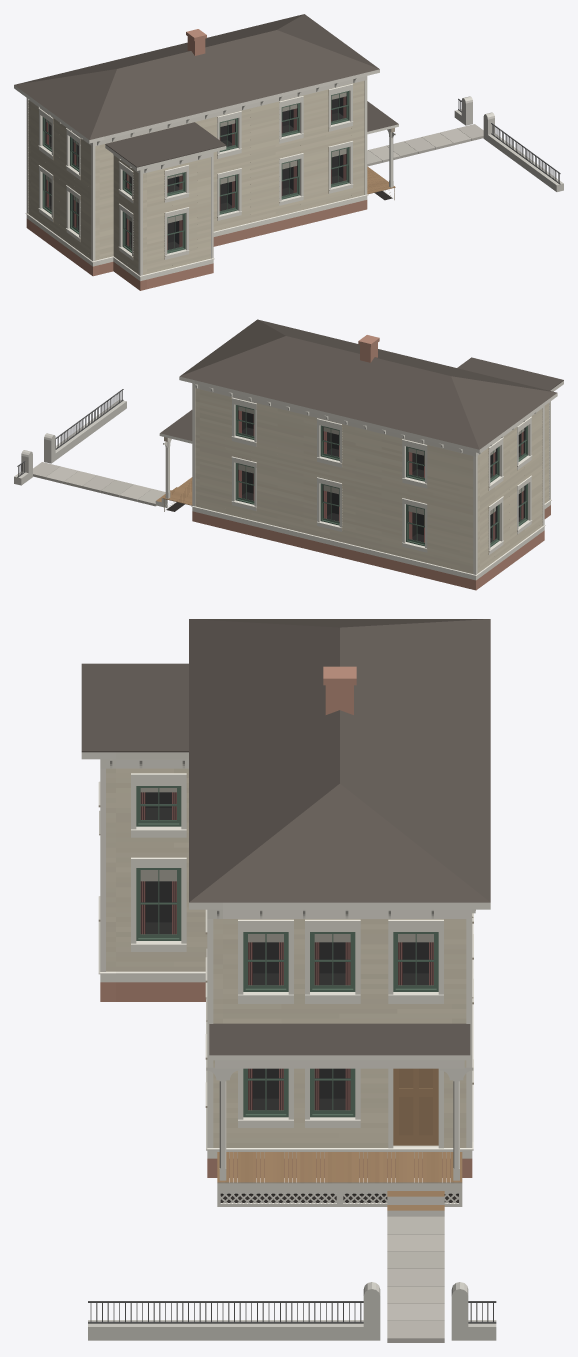
File: house_1630_prairie__as_mapped_1904.glb
The picture shows the model from 3 angles, top to bottom: view 1: azimuth 30°, elevation 25°; view 2: azimuth 150°, elevation 25°; view 3: azimuth 270°, elevation 25°; orthographic projection. The views are drawn at different scales.
Parts seen in each view (by area): view 1: house_1630_prairie__as_mapped_1904; view 2: house_1630_prairie__as_mapped_1904; view 3: house_1630_prairie__as_mapped_1904.
Boxes of the visible parts, bbox=[...] form: house_1630_prairie__as_mapped_1904: bbox=[14, 14, 563, 290]; house_1630_prairie__as_mapped_1904: bbox=[14, 319, 563, 590]; house_1630_prairie__as_mapped_1904: bbox=[81, 619, 496, 1342].
Size of the model in its own units: 21.79 by 8.64 by 8.7.
